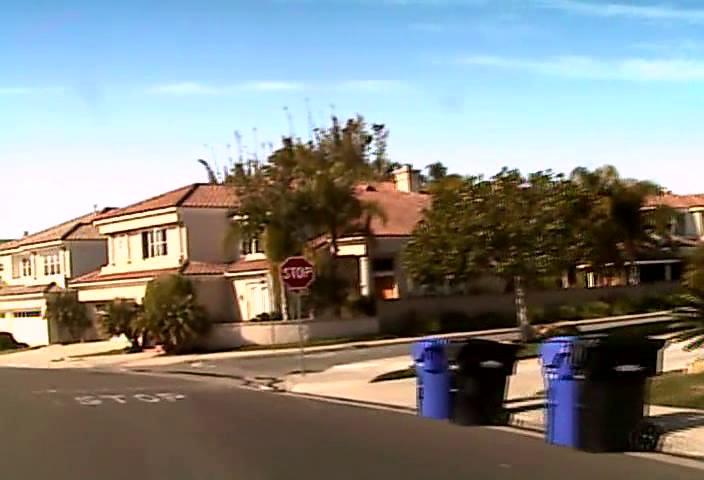stop: (279, 255, 314, 290)
